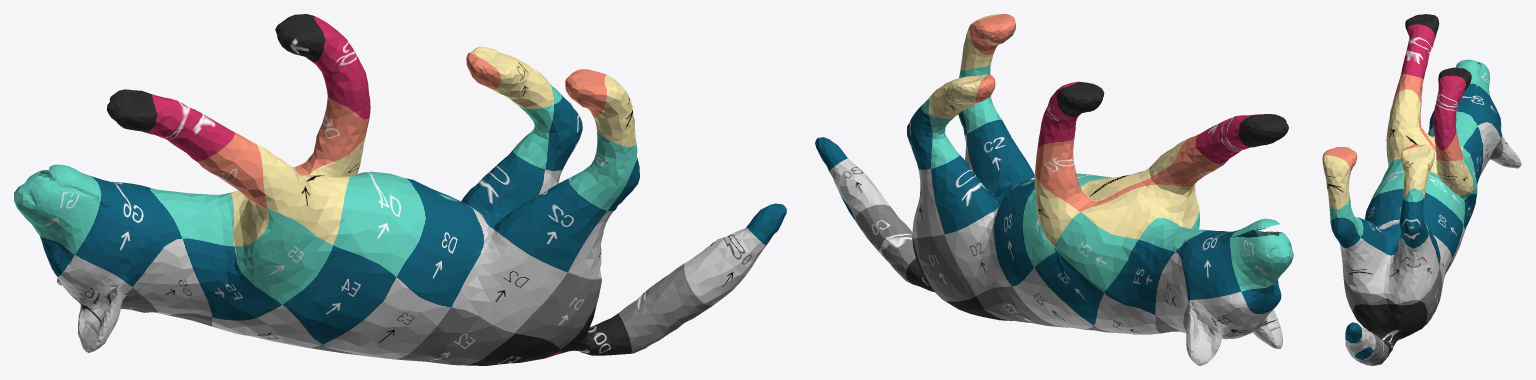
File: horse_08-wolf_01.obj
The picture shows the model from 3 angles, left to right: view 1: azimuth 30°, elevation 25°; view 2: azimuth 150°, elevation 25°; view 3: azimuth 270°, elevation 25°; orthographic projection. The views are drawn at different scales.
Parts seen in each view (by area): view 1: horse_08-wolf_01_export; view 2: horse_08-wolf_01_export; view 3: horse_08-wolf_01_export.
Boxes of the visible parts, x1,y1,x2,y2 form: horse_08-wolf_01_export: (14, 14, 786, 365); horse_08-wolf_01_export: (815, 14, 1293, 365); horse_08-wolf_01_export: (1322, 14, 1521, 365).
Bounding box in the file's own units: 1.14 × 0.5608 × 0.4731.
